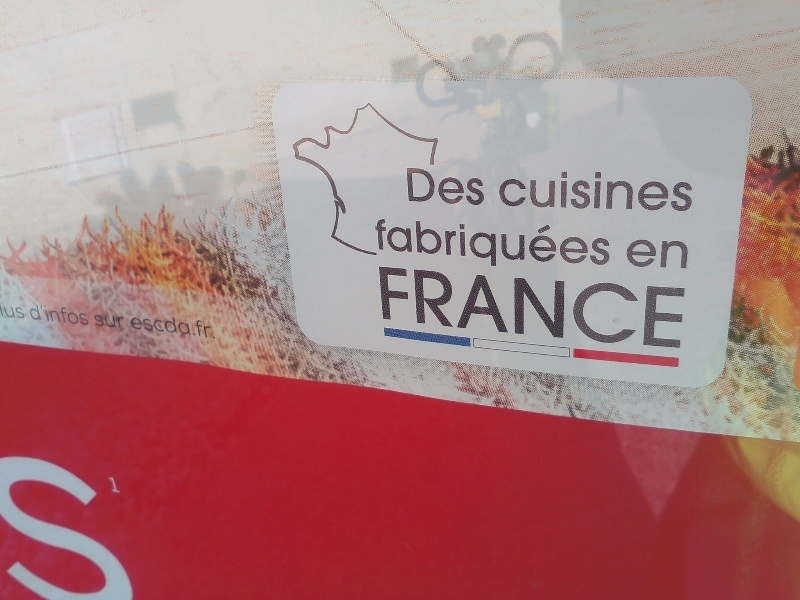text: (1, 442, 16, 599), (17, 442, 32, 599), (33, 442, 48, 599), (49, 442, 64, 599), (65, 442, 80, 599), (81, 442, 96, 599), (97, 442, 112, 599), (113, 442, 128, 599), (129, 442, 140, 599), (673, 265, 689, 355), (385, 265, 400, 355), (401, 265, 416, 355), (417, 265, 432, 355), (433, 265, 448, 355), (449, 265, 464, 355), (465, 265, 480, 355), (481, 265, 496, 355), (497, 265, 512, 355), (513, 265, 528, 355), (529, 265, 544, 355), (545, 265, 560, 355), (561, 265, 576, 355), (577, 265, 592, 355), (593, 265, 608, 355), (609, 265, 624, 355), (625, 265, 640, 355), (641, 265, 656, 355), (657, 265, 672, 355), (385, 217, 400, 272), (401, 217, 416, 272), (417, 217, 432, 272), (433, 217, 448, 272), (449, 217, 464, 272), (465, 217, 480, 272), (481, 217, 496, 272), (497, 217, 512, 272), (513, 217, 528, 272), (529, 217, 544, 272), (545, 217, 560, 272), (561, 217, 576, 272), (577, 217, 592, 272), (593, 217, 608, 272), (513, 170, 528, 213), (529, 170, 544, 213), (545, 170, 560, 213), (561, 170, 576, 213), (577, 170, 592, 213), (593, 170, 608, 213), (609, 170, 624, 213), (625, 170, 640, 213), (641, 170, 656, 213), (657, 170, 672, 213), (673, 170, 688, 213), (417, 168, 432, 206), (433, 168, 448, 206), (449, 168, 464, 206), (465, 168, 480, 206), (499, 170, 512, 213), (374, 217, 384, 272), (378, 265, 384, 355), (641, 237, 656, 270), (657, 237, 672, 270), (673, 237, 688, 270), (626, 237, 640, 270), (406, 168, 416, 206), (129, 315, 144, 340), (145, 315, 160, 340), (161, 315, 176, 340), (177, 315, 192, 340), (193, 315, 208, 340), (33, 304, 48, 326), (49, 304, 64, 326), (65, 304, 80, 326), (481, 168, 488, 206), (113, 472, 123, 496), (689, 170, 694, 213), (97, 315, 112, 329), (2, 305, 16, 320), (81, 304, 90, 326), (113, 315, 127, 329), (17, 305, 30, 320), (104, 472, 112, 496), (209, 315, 214, 340), (609, 217, 611, 272), (28, 304, 32, 326), (93, 315, 96, 329), (689, 237, 690, 270)
